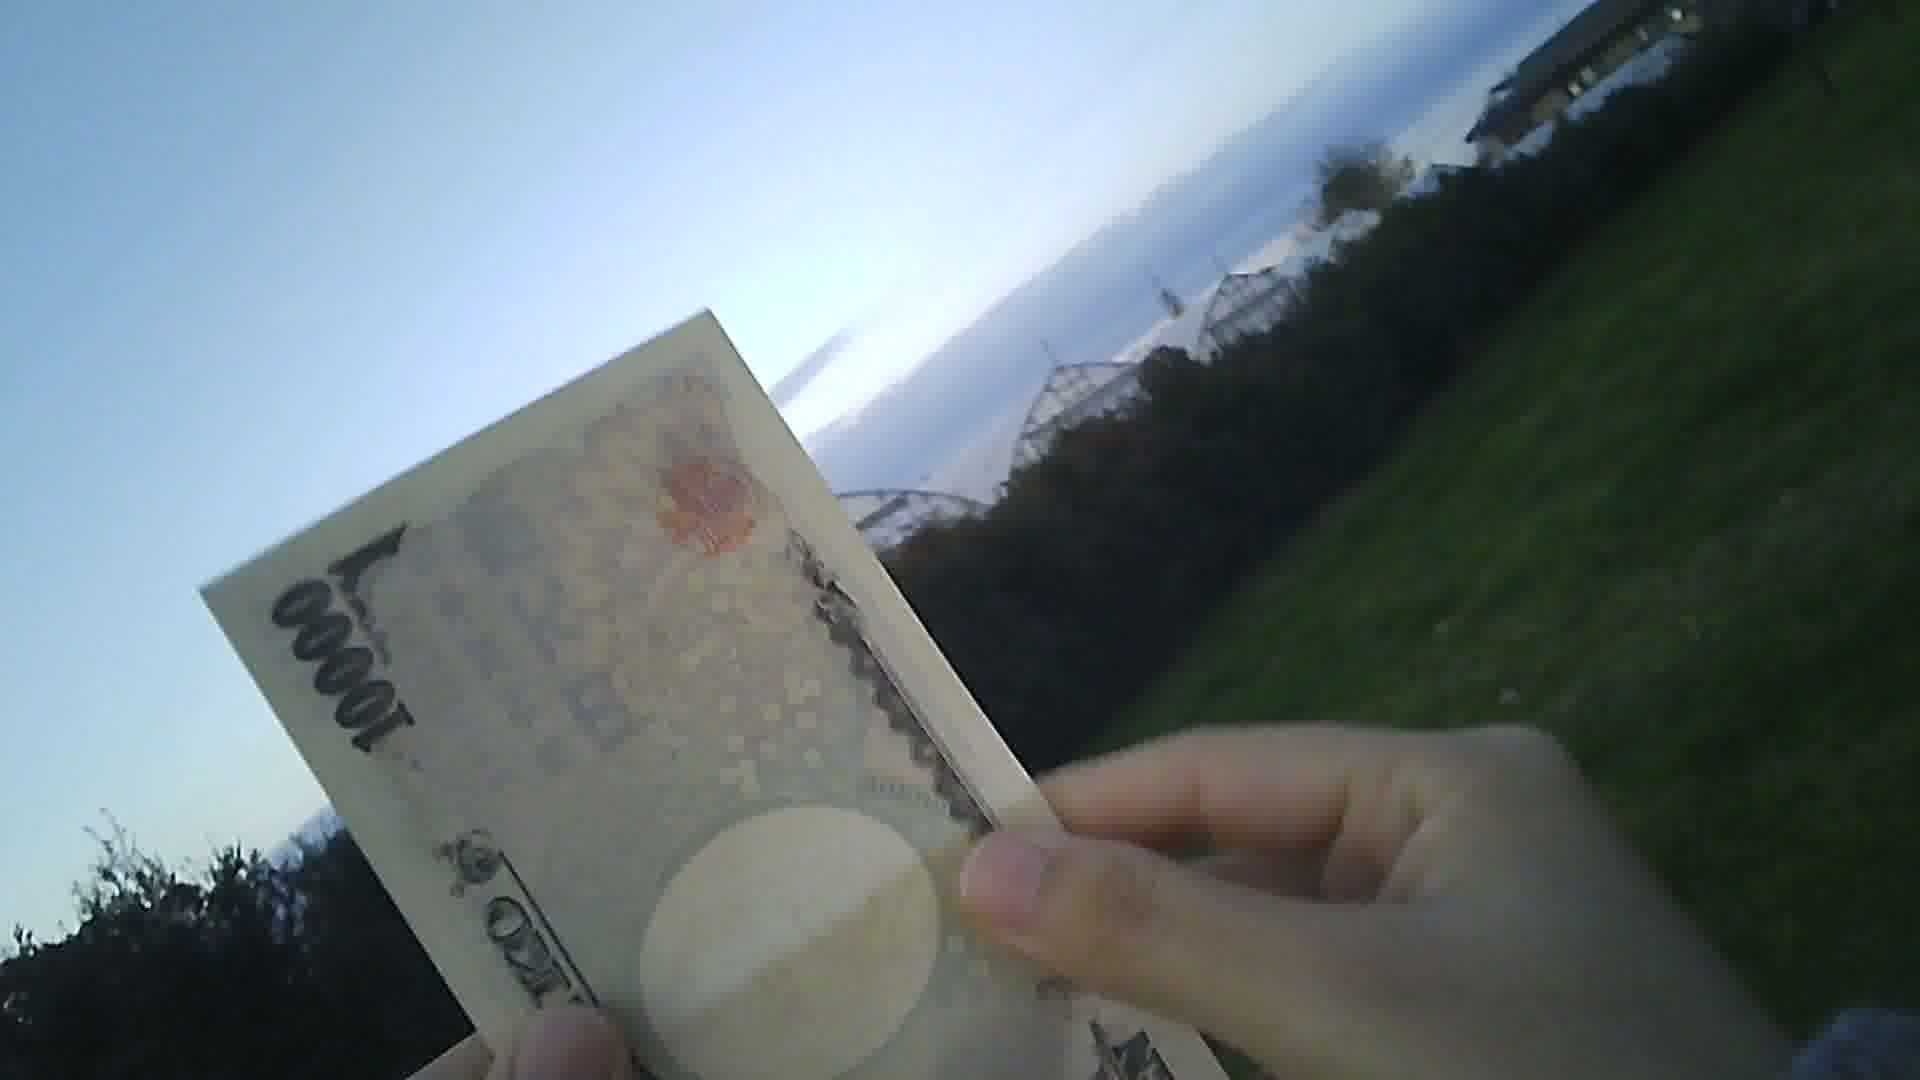10,000 Yen: (190, 301, 1226, 1079)
